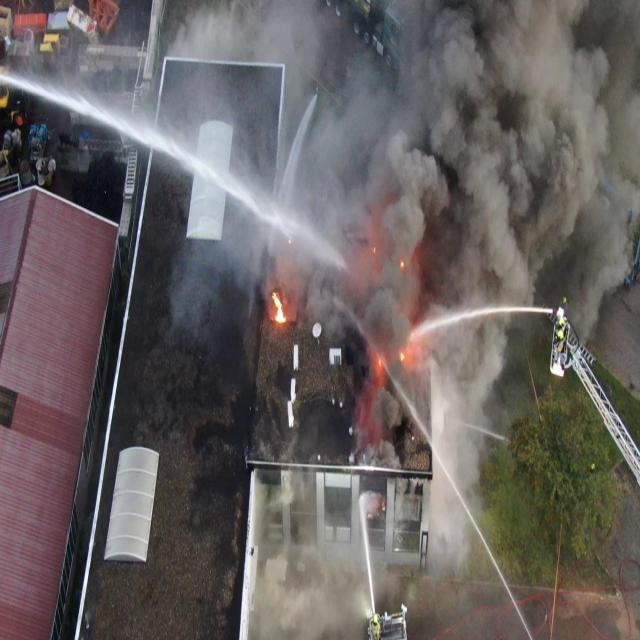Fire: (272, 292, 286, 322), (378, 359, 382, 368), (400, 353, 404, 361), (401, 262, 404, 268), (288, 239, 291, 244), (374, 247, 376, 254)
Smoke: (163, 0, 640, 640)
